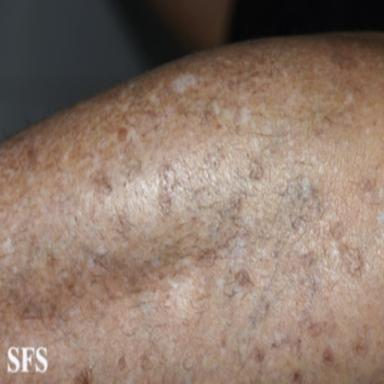Porokeratosis: (158, 164, 176, 215), (124, 138, 142, 183), (342, 248, 364, 275), (90, 170, 113, 195), (203, 146, 224, 170), (249, 160, 264, 181), (323, 345, 334, 366)
